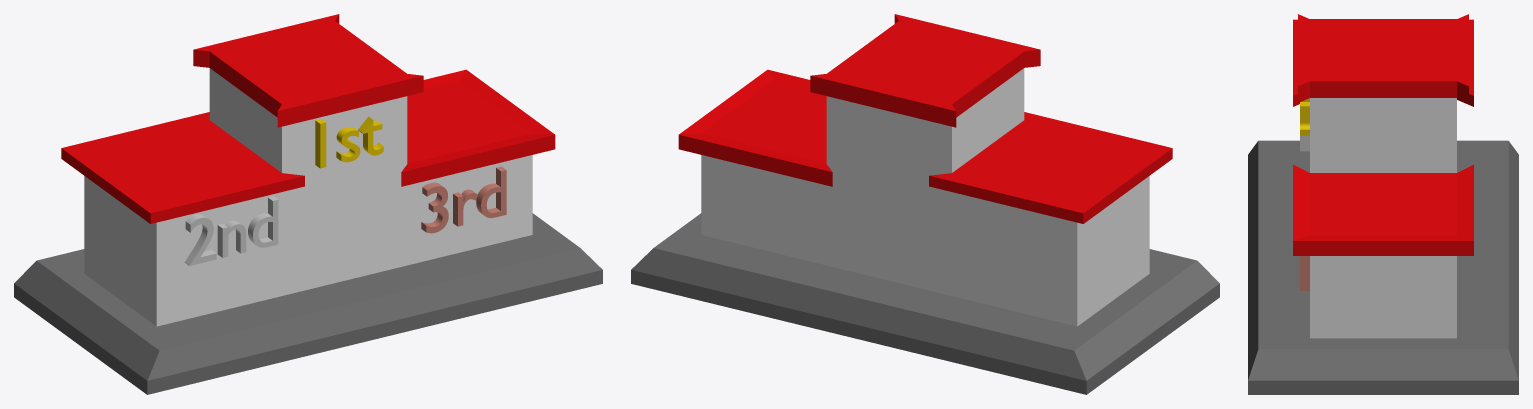
File: podium.fbx
3 renders of one model, left to right at view 1: azimuth 30°, elevation 25°; view 2: azimuth 150°, elevation 25°; view 3: azimuth 270°, elevation 25°, orthographic.
Visible parts, largest first — view 1: Cube, Text.001, Text.002, Text; view 2: Cube; view 3: Cube, Text, Text.002.
Part boxes in pixels (x1,y1,x2,y2): Cube: (14,14,602,394); Text.001: (184,196,278,265); Text.002: (421,166,506,233); Text: (315,116,383,168); Cube: (631,14,1219,394); Cube: (1248,14,1518,394); Text: (1300,98,1309,135); Text.002: (1300,256,1309,290).
Size of the model in its own units: 727 by 348 by 368.
